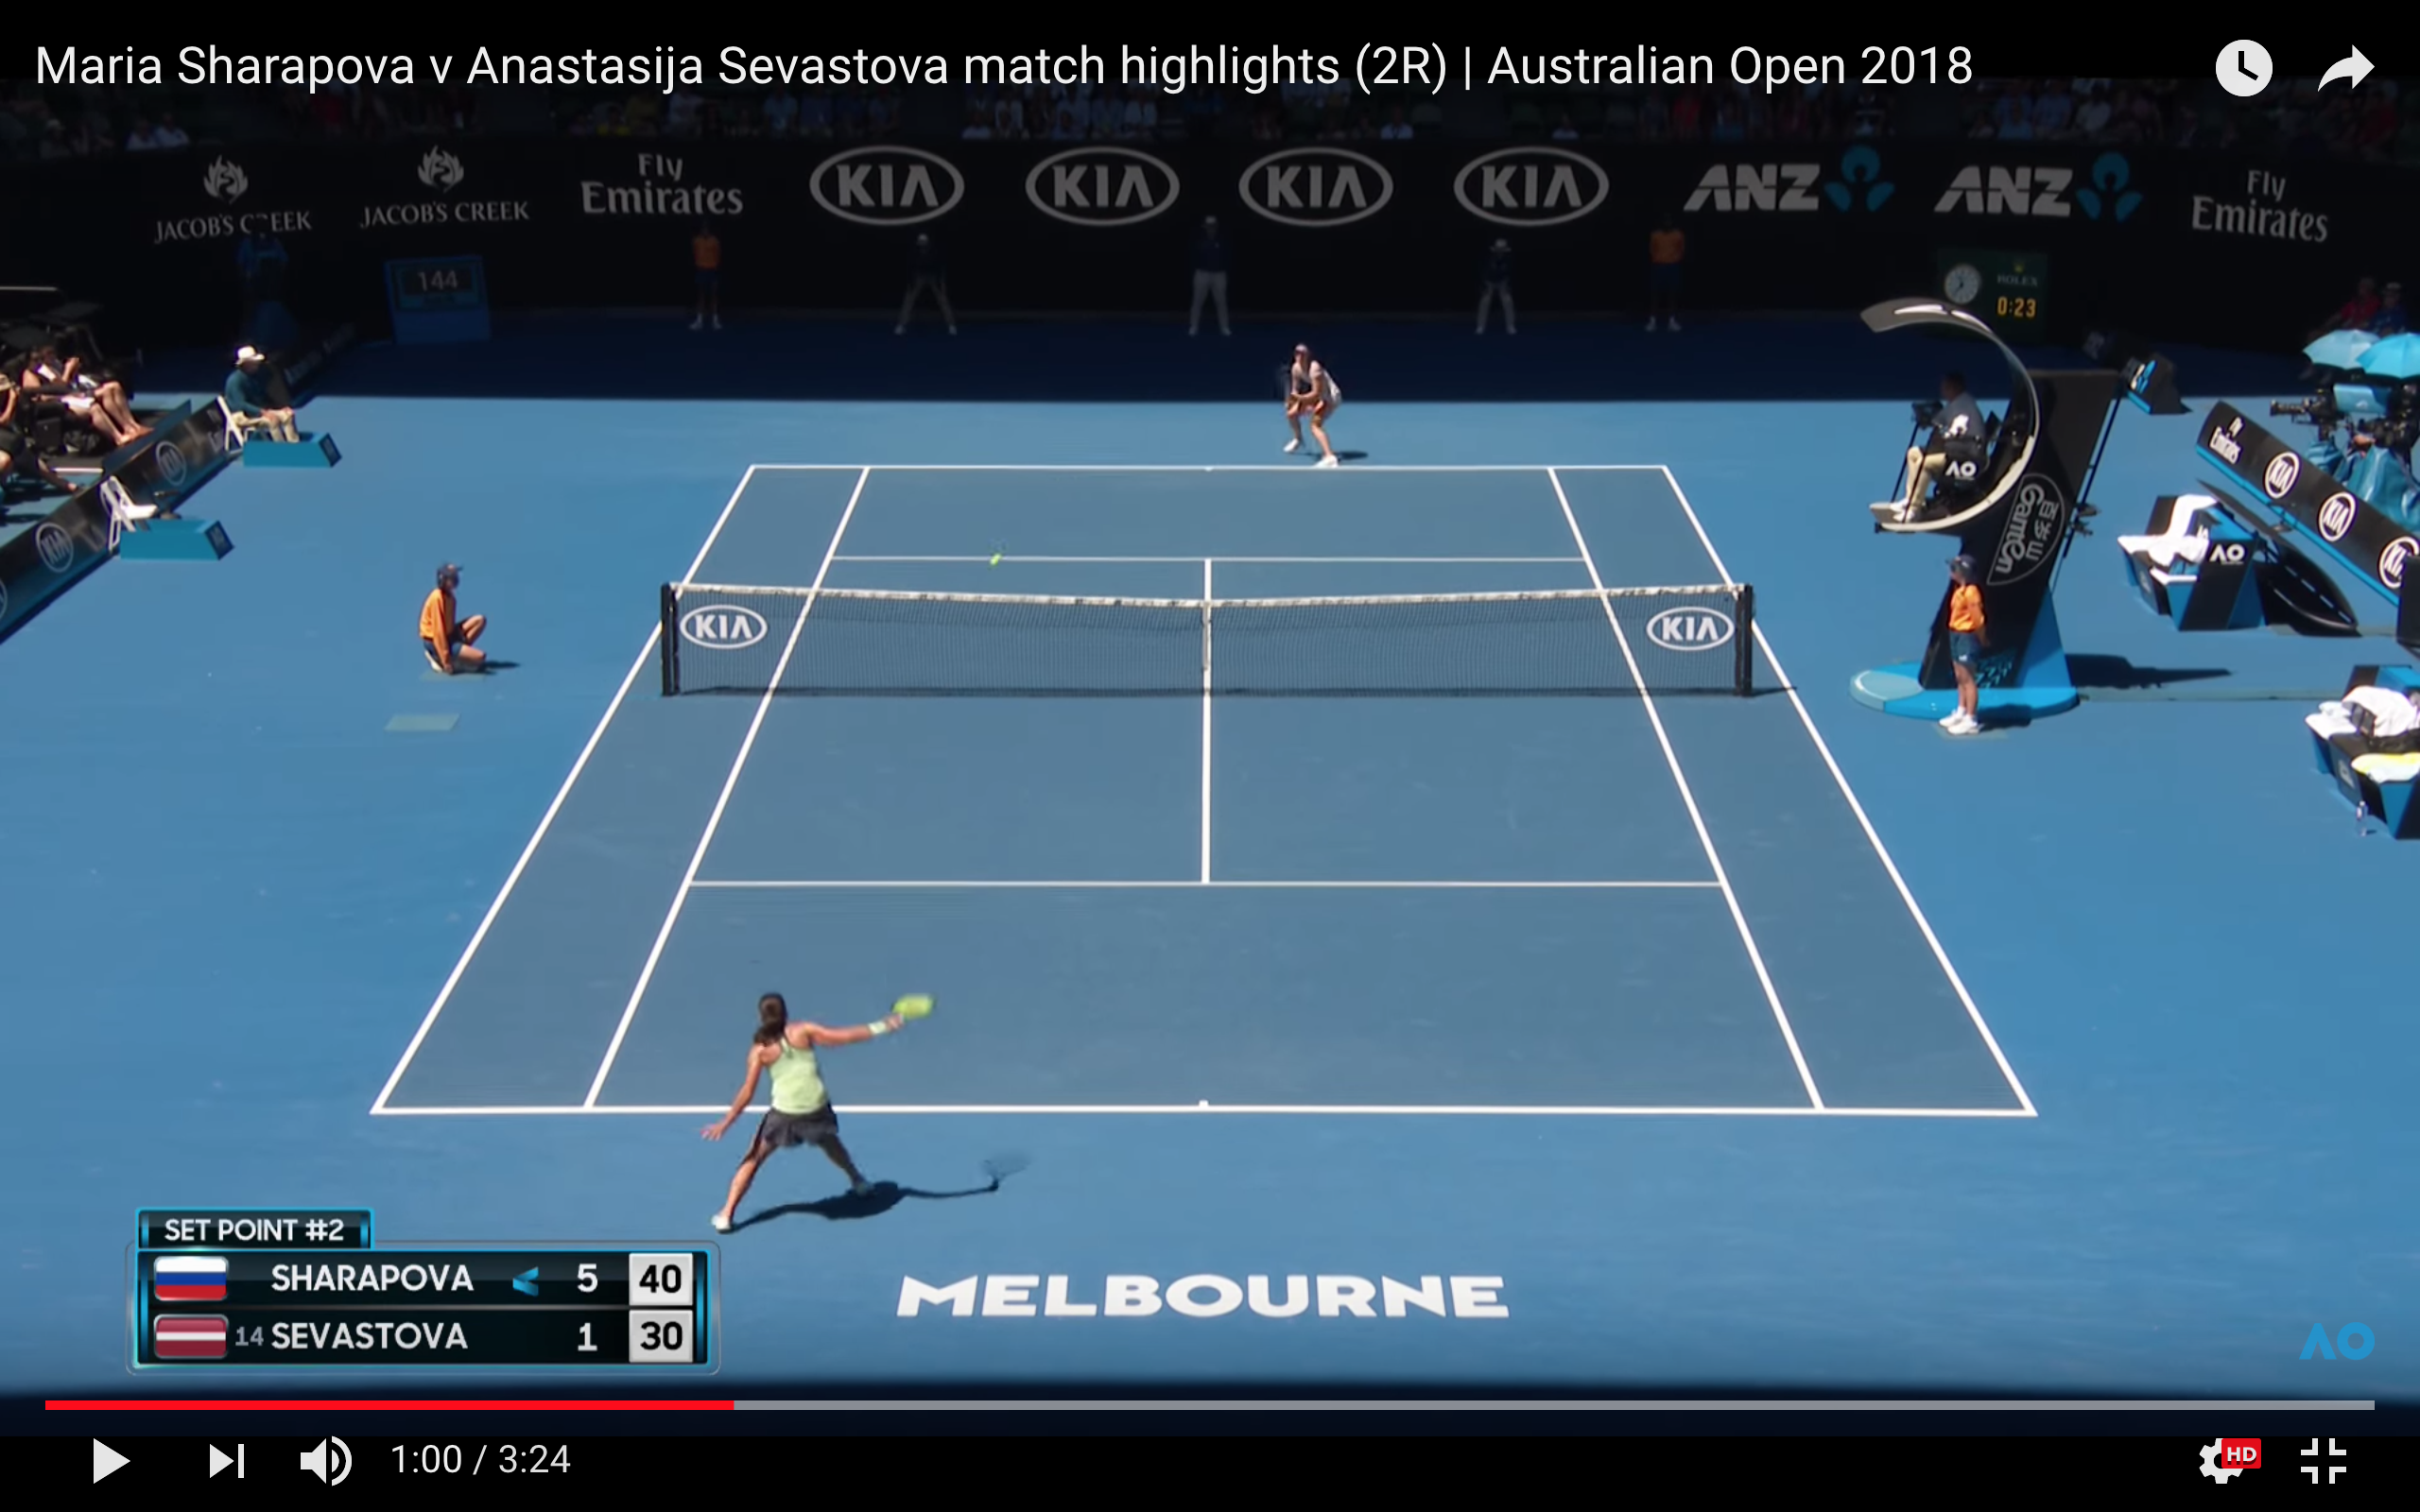tennis ball: (984, 548, 1013, 574)
tennis player: (700, 989, 920, 1232), (1270, 344, 1352, 474)
